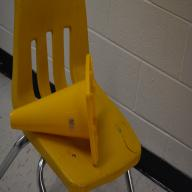cone: (9, 53, 98, 166)
